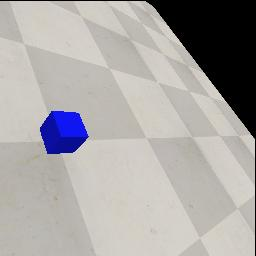box: (39, 111, 89, 154)
